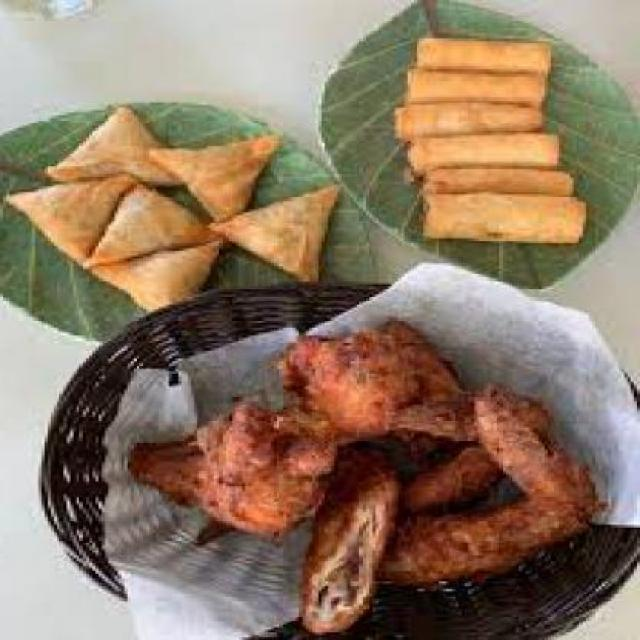chicken wings: (162, 320, 593, 625)
samosa: (13, 102, 332, 310)
spring rolls: (405, 33, 583, 259)
